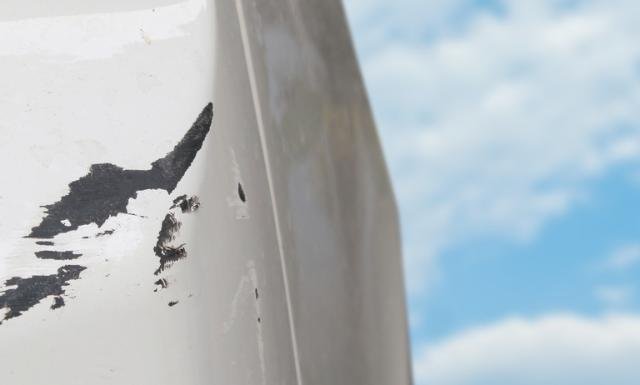Bumper: (0, 95, 282, 385)
